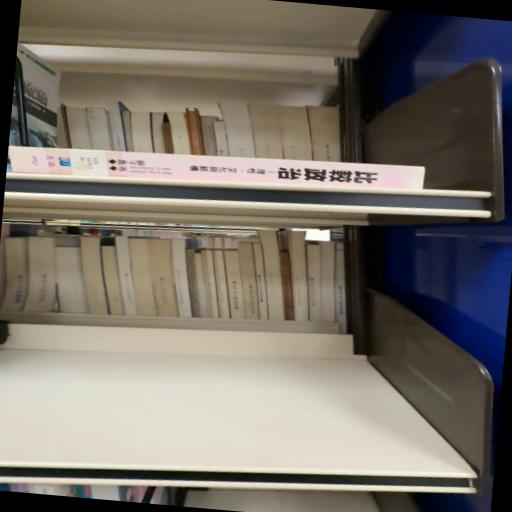flat: (9, 148, 425, 194)
